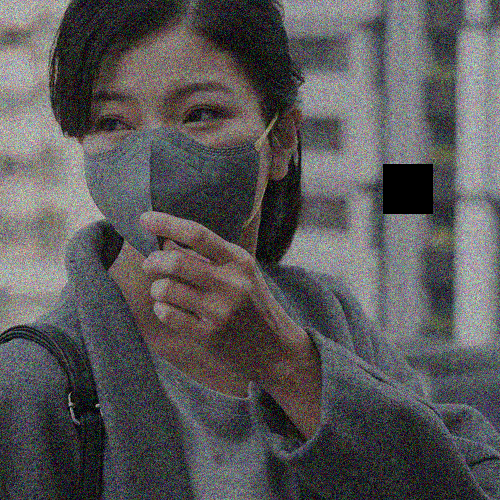with_mask: (79, 79, 272, 269)
